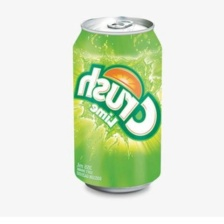can: (63, 12, 169, 195)
